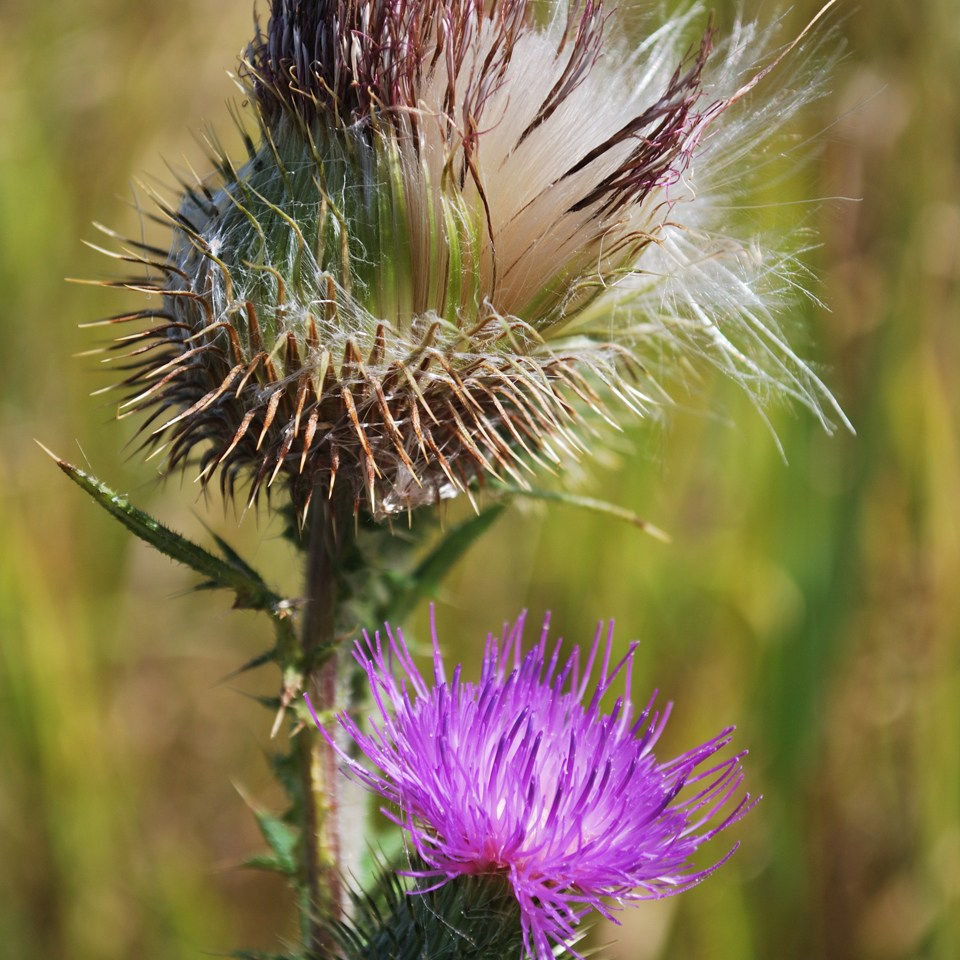thistle: (310, 602, 761, 960)
